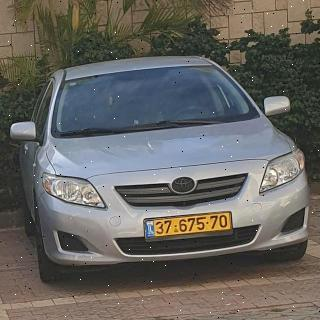LicensePlate: (153, 213, 231, 236)
